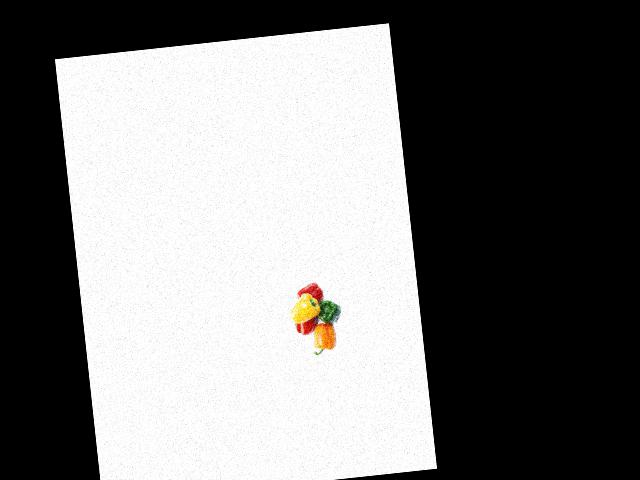bell_pepper: (309, 292, 346, 327)
